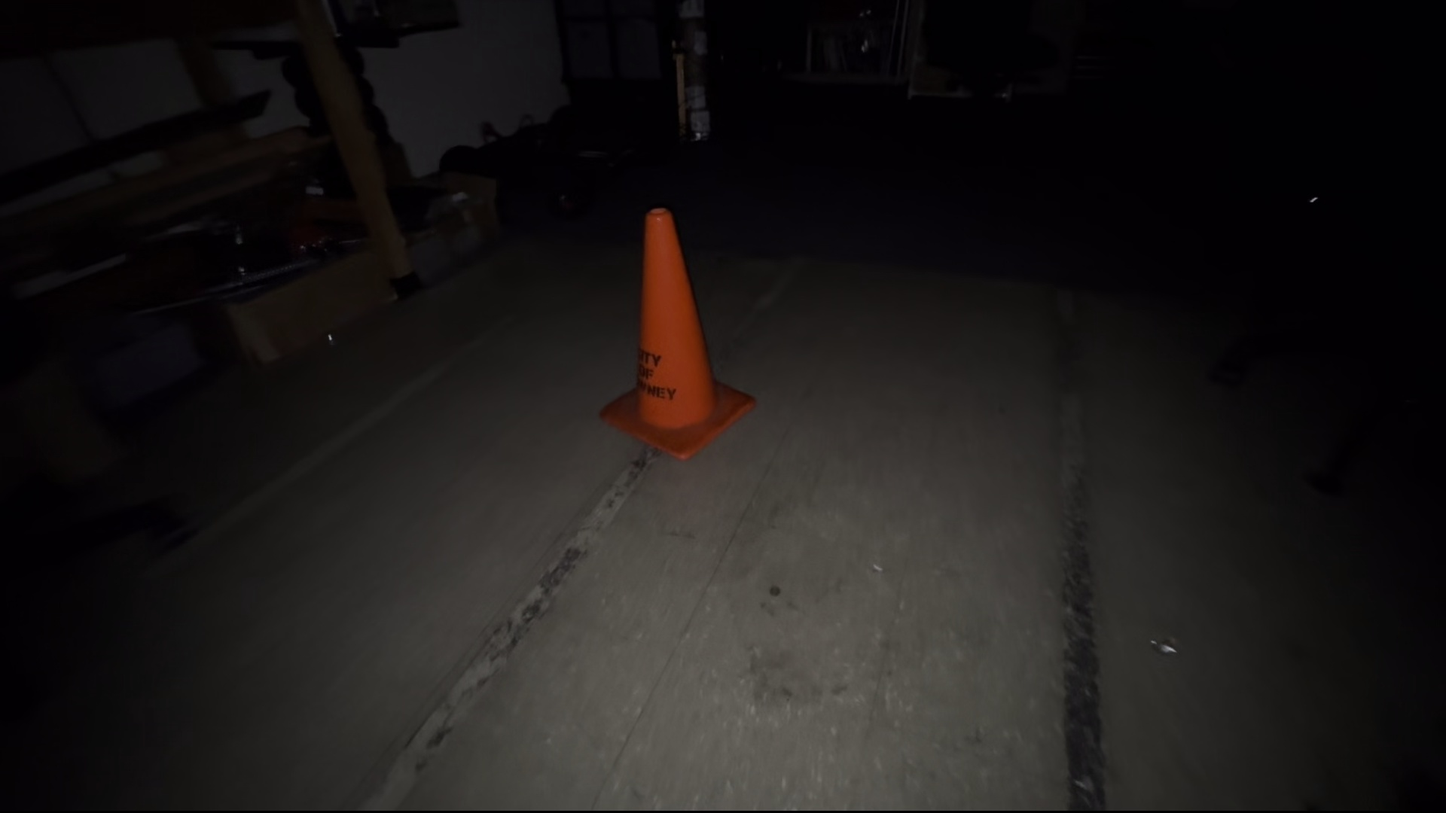traffic_cone: (598, 206, 757, 461)
